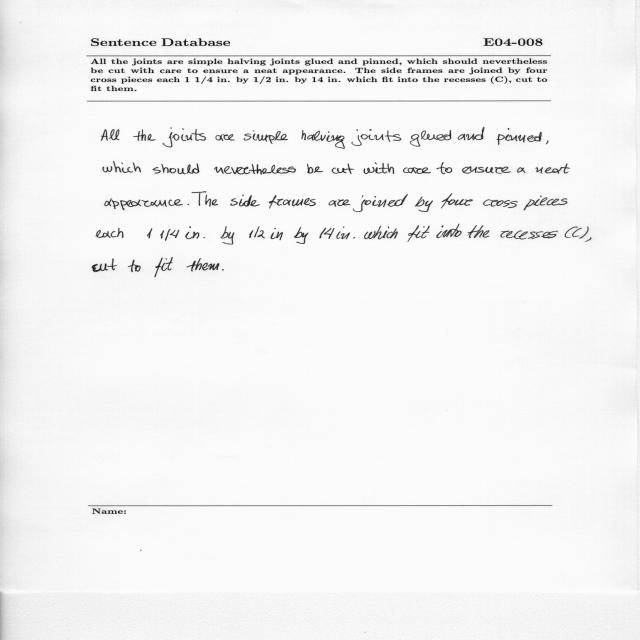word: (105, 192, 211, 211), (214, 164, 296, 175), (163, 128, 206, 148), (352, 129, 402, 146), (301, 130, 345, 149), (497, 128, 542, 145), (410, 130, 451, 147), (524, 196, 568, 211), (269, 195, 316, 209), (243, 130, 288, 144), (353, 195, 386, 212), (153, 164, 200, 175), (441, 194, 473, 209), (187, 258, 220, 272), (103, 161, 141, 173), (364, 226, 398, 239), (462, 166, 511, 174), (154, 258, 173, 278), (501, 231, 543, 240), (408, 225, 430, 242), (458, 127, 484, 141), (436, 224, 462, 238), (364, 162, 394, 174), (230, 195, 260, 207), (536, 164, 570, 174), (92, 259, 117, 272), (483, 199, 518, 208), (468, 225, 490, 238), (387, 194, 408, 207), (415, 197, 433, 212), (96, 228, 123, 238), (221, 226, 235, 245), (134, 129, 156, 141), (185, 226, 205, 239), (332, 163, 354, 174), (294, 227, 308, 244), (160, 229, 179, 241), (336, 227, 355, 239), (102, 129, 120, 141), (565, 226, 582, 238), (403, 167, 431, 174), (249, 227, 265, 239), (437, 162, 452, 174), (329, 199, 350, 207), (320, 228, 335, 239), (307, 164, 323, 174), (270, 228, 283, 240), (128, 260, 141, 272), (215, 134, 235, 141), (579, 227, 589, 239), (542, 231, 559, 238), (517, 167, 526, 173), (147, 229, 152, 239), (212, 200, 218, 206), (585, 237, 591, 242), (546, 141, 548, 145), (222, 269, 224, 271)
